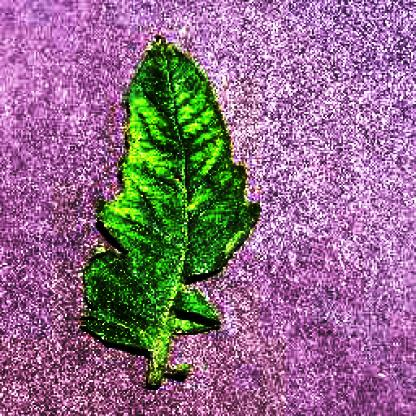Virus: (76, 34, 260, 392)
